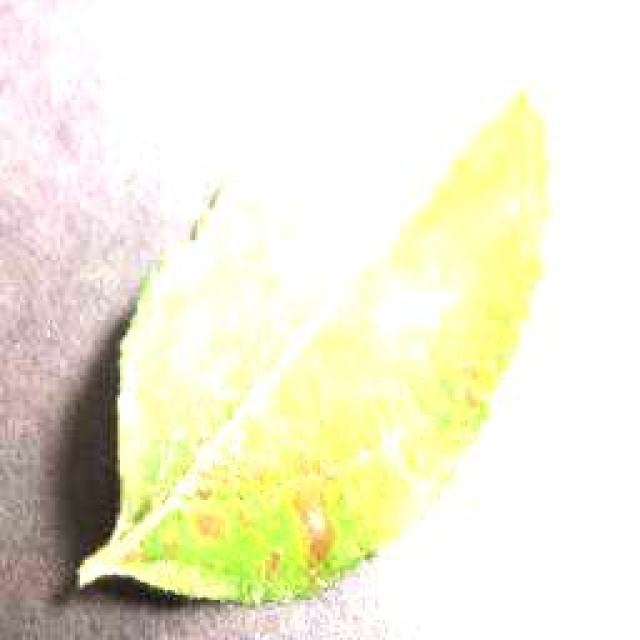apple scab disease: (72, 85, 550, 607)
